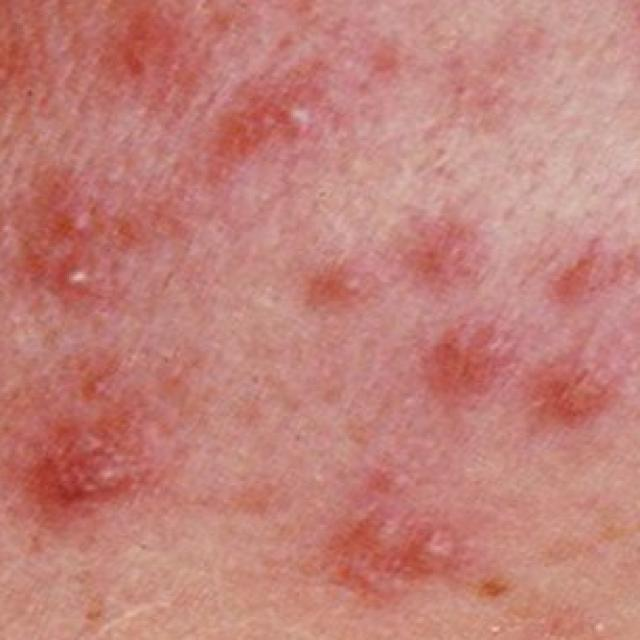acne: (293, 464, 502, 626), (6, 350, 186, 534), (527, 222, 640, 466), (404, 207, 520, 416), (10, 146, 144, 322), (222, 54, 358, 170), (276, 243, 393, 349)
